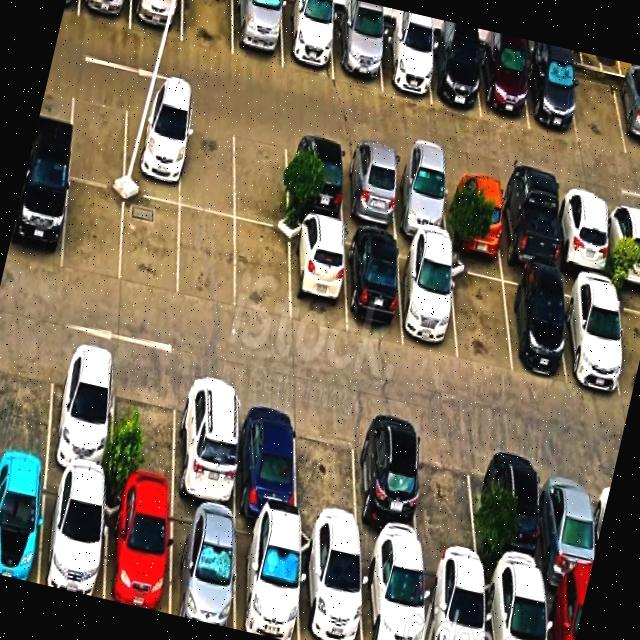empty: (110, 357, 177, 499), (297, 403, 358, 542), (420, 428, 479, 570), (0, 331, 55, 467), (450, 256, 512, 371), (62, 179, 124, 282), (68, 81, 127, 188), (121, 193, 180, 298), (178, 206, 235, 309), (180, 108, 234, 216), (234, 120, 287, 230), (235, 221, 289, 322), (569, 67, 625, 154), (614, 286, 640, 400), (181, 0, 233, 55)
occupied: (46, 342, 115, 483), (355, 416, 421, 556), (174, 373, 238, 513), (39, 471, 106, 598), (170, 501, 235, 629), (236, 387, 296, 525), (105, 487, 170, 614), (235, 517, 299, 640), (491, 442, 544, 582), (542, 454, 596, 590), (560, 275, 622, 393), (502, 267, 565, 378), (398, 242, 457, 358), (300, 530, 362, 640), (6, 163, 69, 270), (124, 95, 184, 204), (345, 230, 403, 342), (291, 218, 346, 332), (361, 547, 424, 640), (0, 462, 46, 583), (498, 178, 557, 272), (287, 132, 343, 224), (446, 167, 502, 258), (423, 558, 485, 640), (392, 154, 448, 243), (343, 144, 397, 234), (556, 189, 609, 278), (526, 53, 577, 142), (478, 43, 529, 129), (427, 36, 480, 117), (484, 571, 546, 640), (379, 24, 431, 104), (281, 0, 333, 79), (333, 14, 381, 89), (233, 0, 282, 68), (606, 199, 640, 284), (544, 582, 586, 640), (613, 76, 640, 157), (130, 0, 182, 41), (78, 0, 131, 28)
